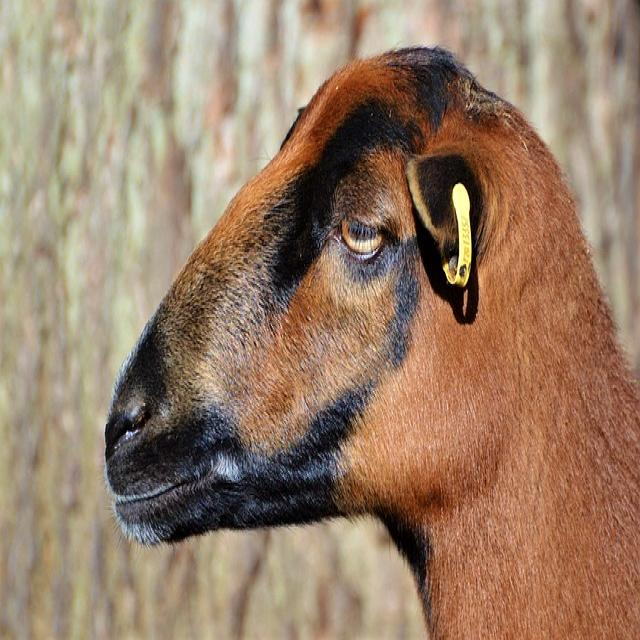sheep: (103, 42, 639, 638)
